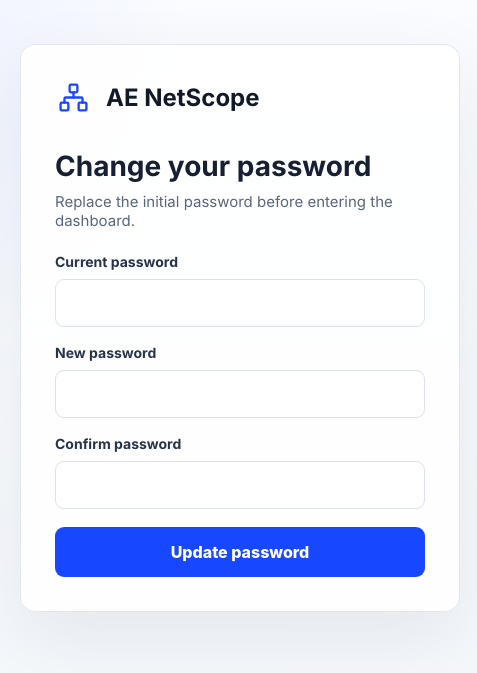
Test: ChangePasswordScreen › rejects reusing the current password locally
The width and height of the screenshot is (477, 673).
Type "temporary-password" into the password field labelled "Current password" at (240, 303), box [55,279,425,327]
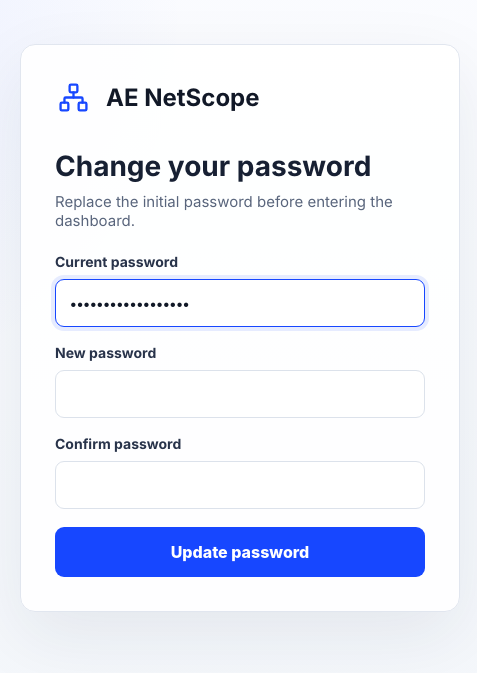
Type "temporary-password" into the password field labelled "New password" at (240, 394), box [55,370,425,418]
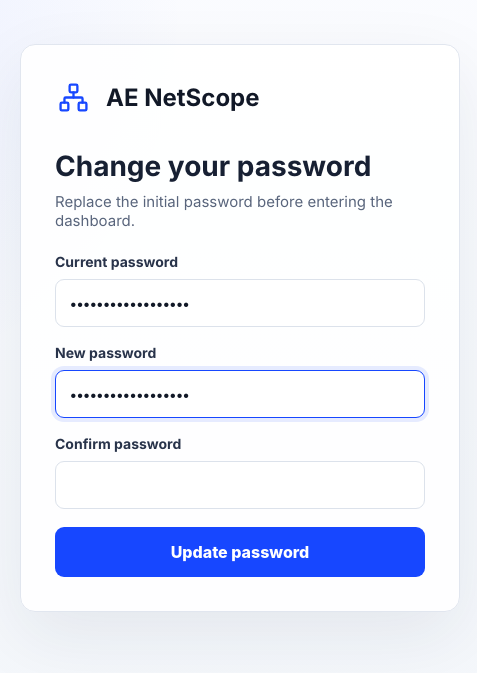
Type "temporary-password" into the password field labelled "Confirm password" at (240, 485), box [55,461,425,509]
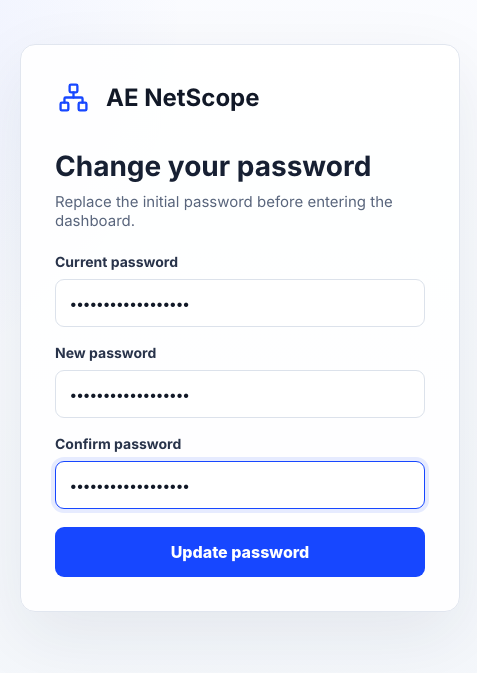
Click the button "Update password" at (240, 552), box [55,527,425,577]
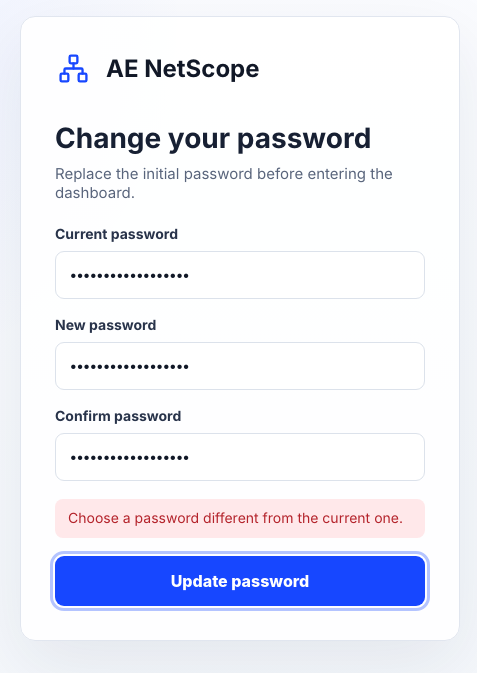
Expected: the text "Choose a password different from the current one." is shown, [55,498,425,538]
